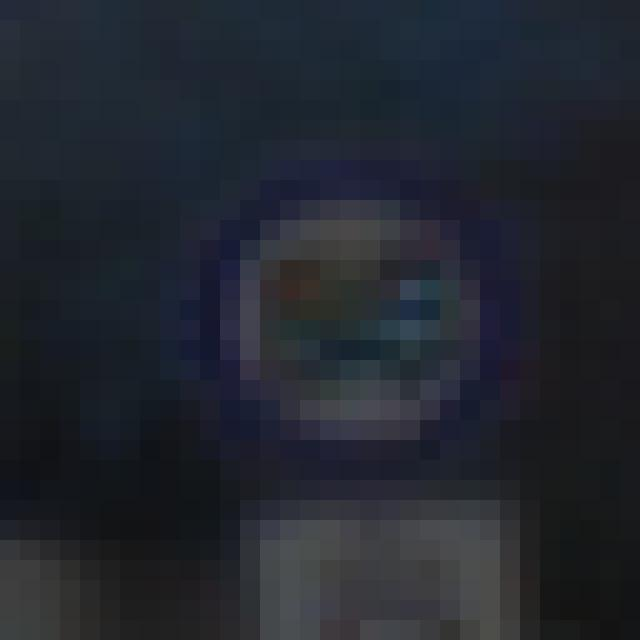SPEED-LIMIT-80: (193, 161, 509, 455)
